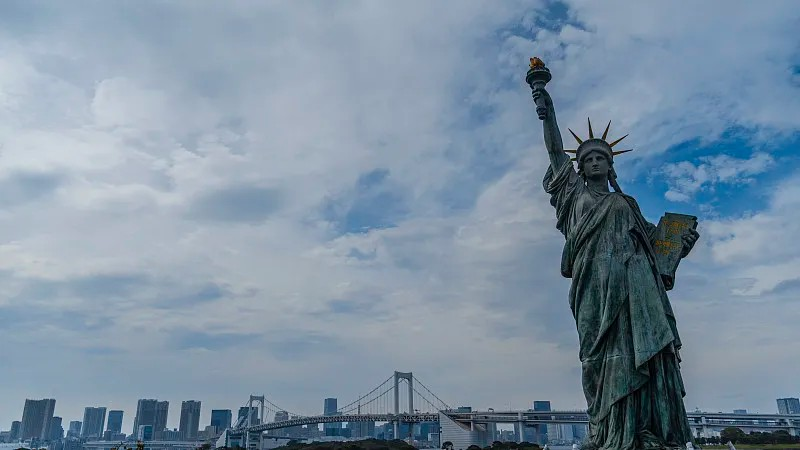SL: (525, 56, 700, 450)
